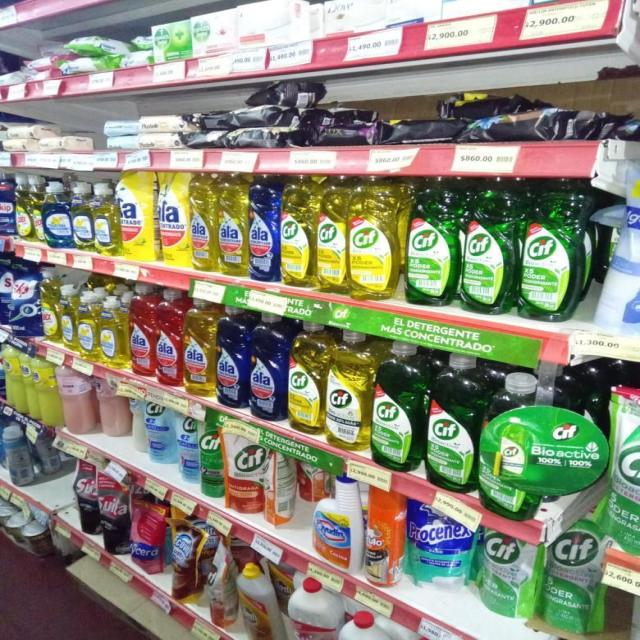ala_conc_amarillo: (217, 172, 248, 278), (184, 297, 215, 397), (190, 173, 217, 274)
ala_conc_azul: (250, 310, 287, 422), (248, 174, 280, 284), (217, 304, 248, 410)
ala_conc_rojo: (156, 288, 183, 388), (130, 284, 156, 380)
ala_sachet_amarillo: (120, 169, 155, 262), (158, 170, 188, 268)
cif_conc_bot_amarilla: (349, 178, 400, 301), (327, 328, 370, 452), (288, 319, 326, 435), (281, 176, 316, 290), (316, 177, 348, 294)
cif_conc_botella_verde: (518, 181, 586, 321), (460, 181, 516, 315), (426, 352, 477, 492), (372, 340, 423, 472), (405, 181, 457, 307)
cif_conc_sachet_verde: (544, 490, 604, 636), (480, 525, 539, 620), (609, 380, 640, 557)
magistral_con_amarillo: (100, 296, 128, 370), (94, 183, 118, 257), (77, 290, 99, 360), (72, 181, 93, 253)
magistral_con_azul: (44, 180, 71, 250)
